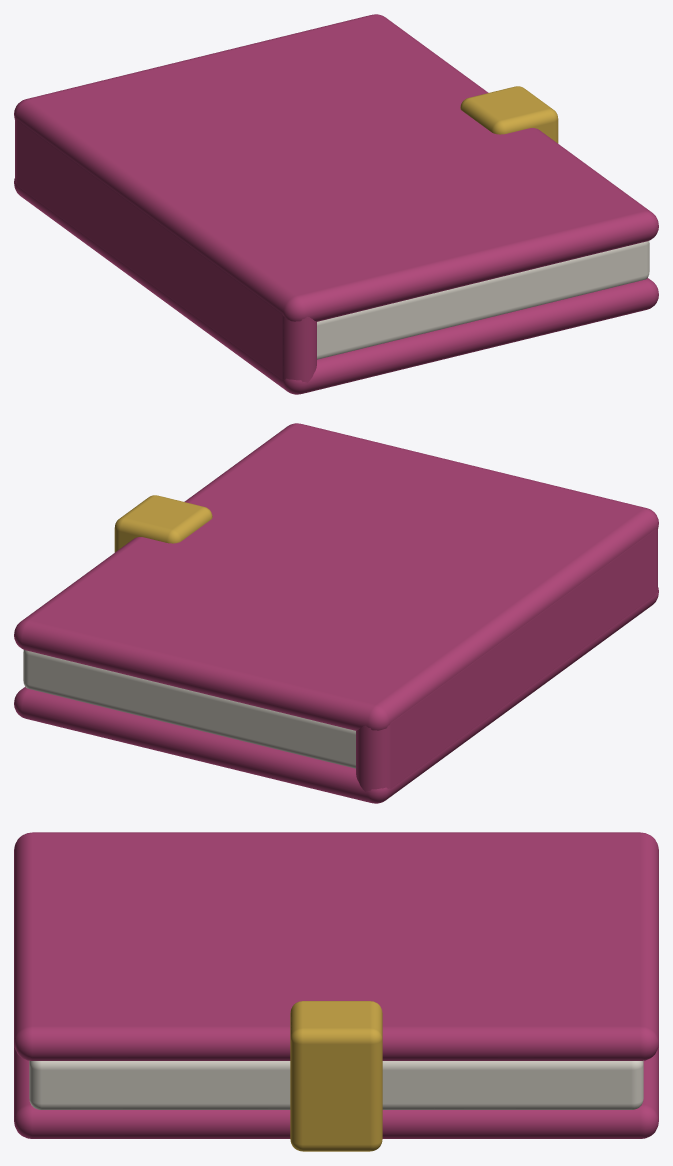
The model's file is item_ic_lost_diary.glb.
3 renders of one model, top to bottom at view 1: azimuth 30°, elevation 25°; view 2: azimuth 150°, elevation 25°; view 3: azimuth 270°, elevation 25°, orthographic. The views are drawn at different scales.
Visible parts, largest first — view 1: item_ic_lost_diary_main; view 2: item_ic_lost_diary_main; view 3: item_ic_lost_diary_main.
Boxes of the visible parts, x1,y1,x2,y2 form: item_ic_lost_diary_main: (14, 14, 658, 394); item_ic_lost_diary_main: (14, 423, 658, 803); item_ic_lost_diary_main: (14, 832, 658, 1151).
Size of the model in its own units: 0.168 by 0.044 by 0.21.
